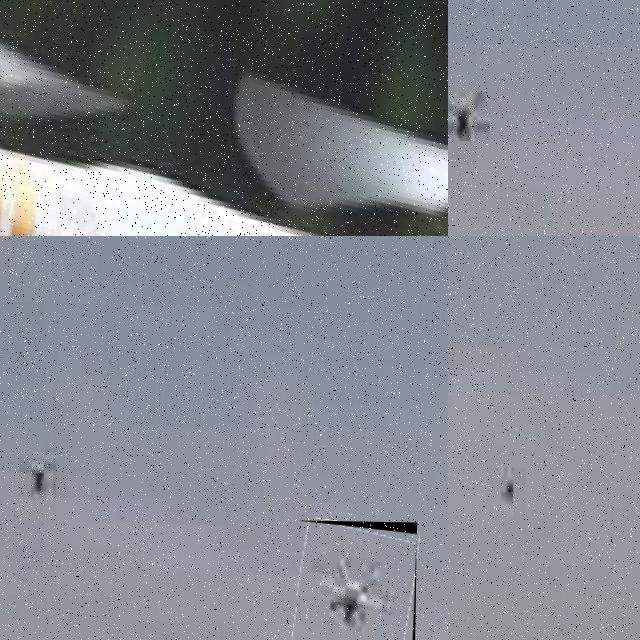drone: (0, 0, 448, 236), (295, 520, 416, 640)
